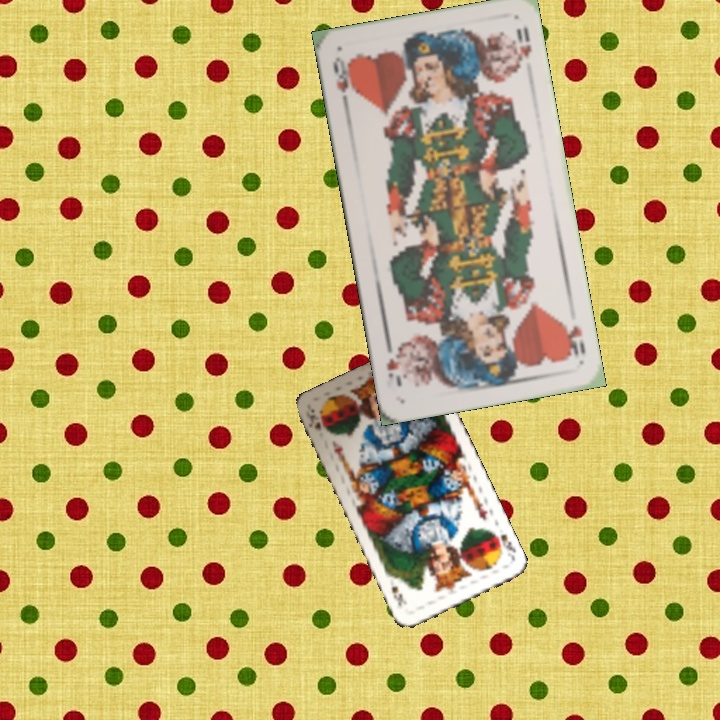HO: (329, 52, 356, 111), (559, 316, 588, 359)
SK: (488, 528, 518, 563), (303, 405, 324, 433)
